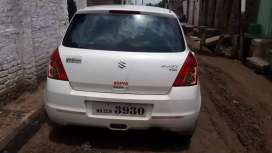license_plate: (84, 102, 153, 117)
